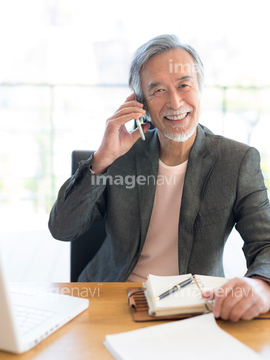phone: (111, 94, 155, 146)
talk: (100, 71, 200, 156)
